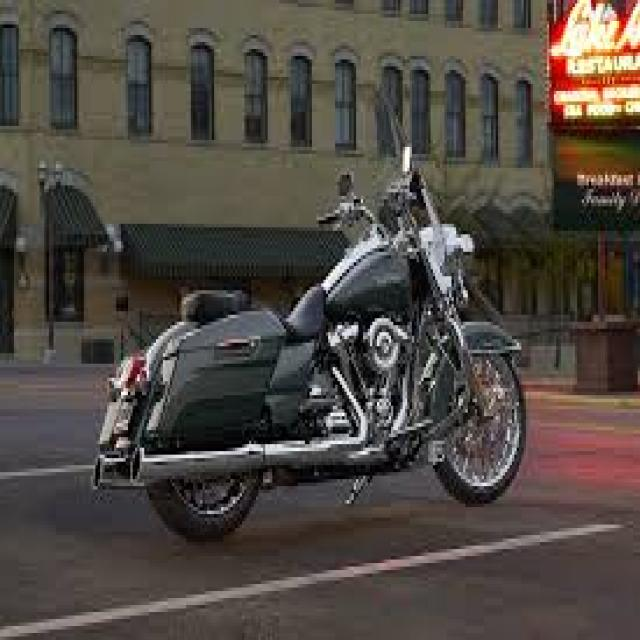Bike: (103, 174, 528, 525)
